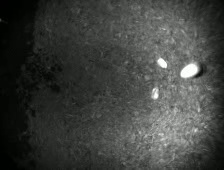corn: (177, 62, 203, 80), (156, 55, 169, 70), (149, 85, 161, 101)
